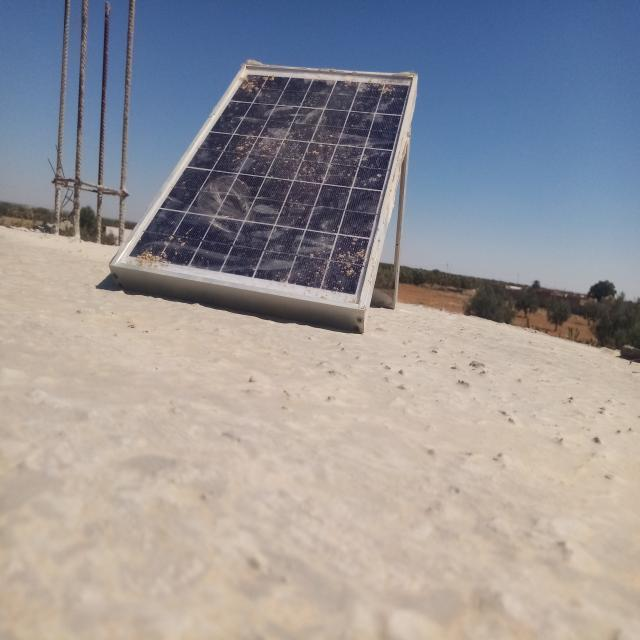Anomaly Solar Panel: (125, 73, 413, 299)
Surface Contaminant: (130, 72, 411, 299)
